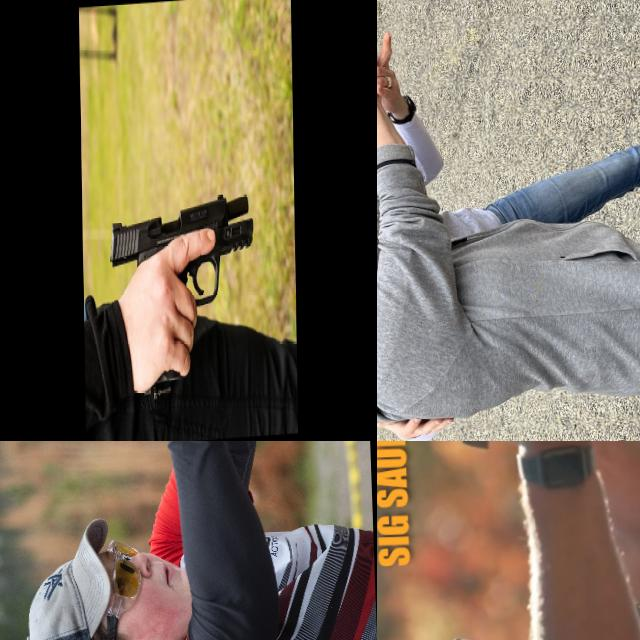handgun: (107, 186, 258, 406), (445, 441, 561, 543), (85, 441, 238, 513), (377, 564, 416, 640), (377, 0, 410, 84)
